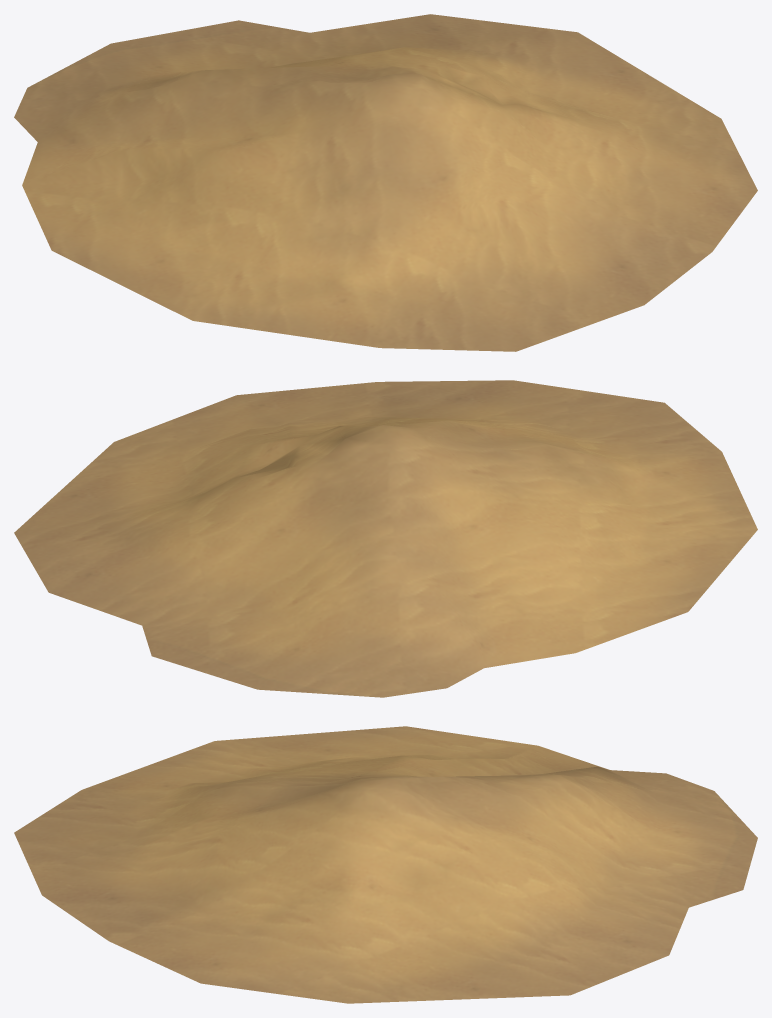
The model's file is Area_14_5.fbx.
The picture shows the model from 3 angles, top to bottom: view 1: azimuth 30°, elevation 25°; view 2: azimuth 150°, elevation 25°; view 3: azimuth 270°, elevation 25°; orthographic projection. The views are drawn at different scales.
Parts seen in each view (by area): view 1: Area_14_5; view 2: Area_14_5; view 3: Area_14_5.
Part boxes in pixels (x1,y1,x2,y2): Area_14_5: [14, 14, 757, 351]; Area_14_5: [14, 380, 757, 697]; Area_14_5: [14, 726, 757, 1003].
Bounding box in the file's own units: 3770 × 536 × 4273.
Materials: 1 (1 with a texture image).
